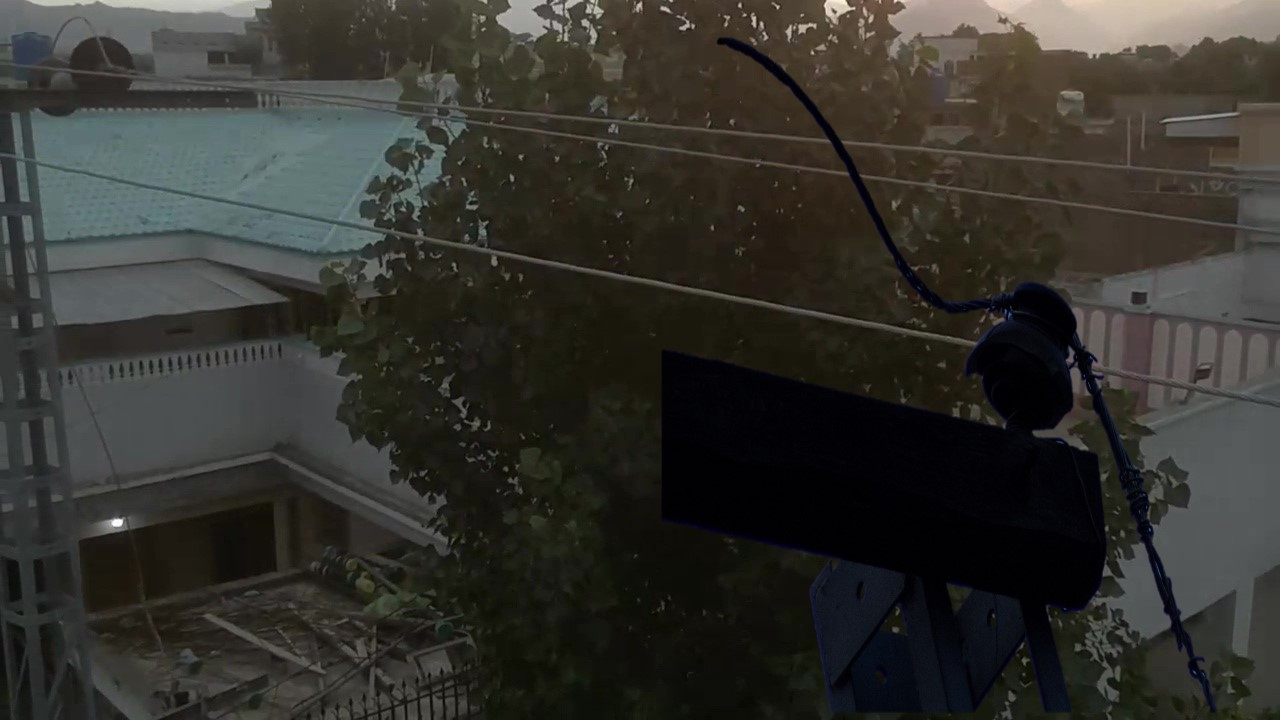defect_pin: (955, 274, 1090, 427)
